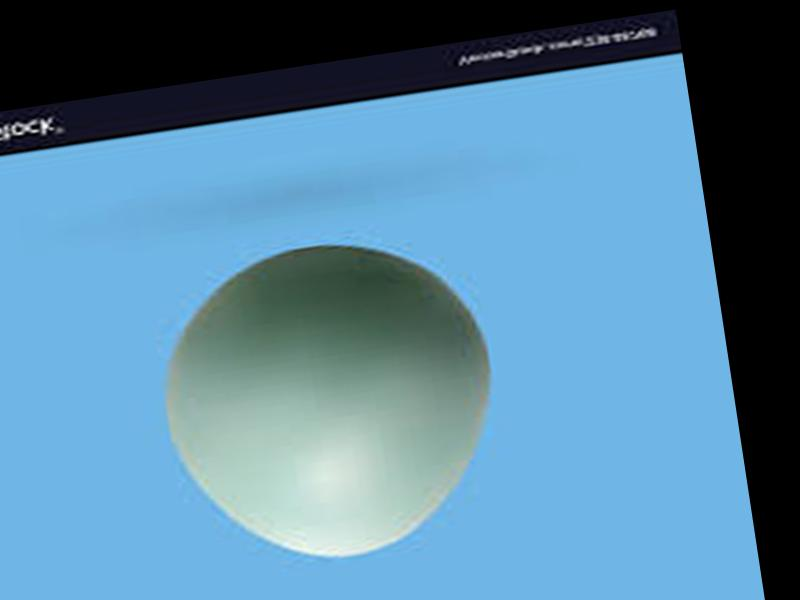Eggs: (146, 224, 518, 579)
